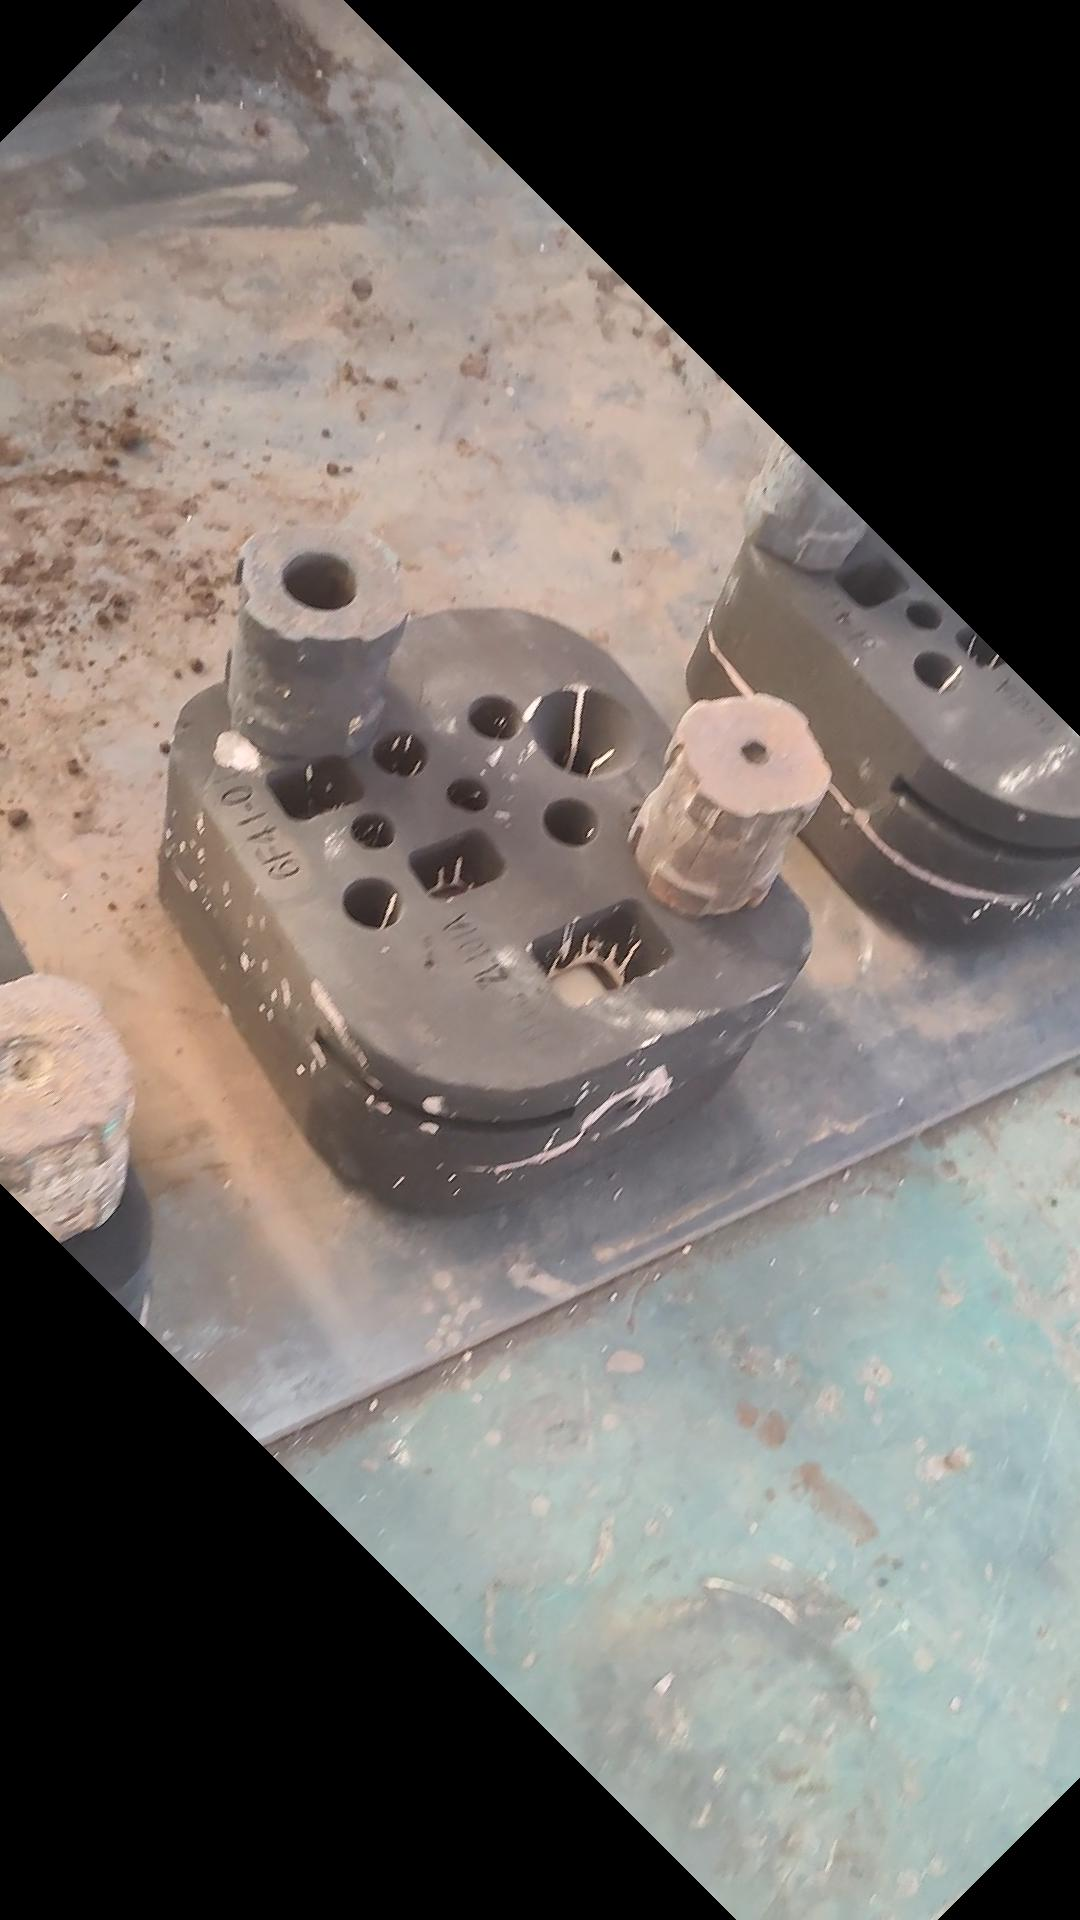pouring hole: (529, 690, 641, 777)
